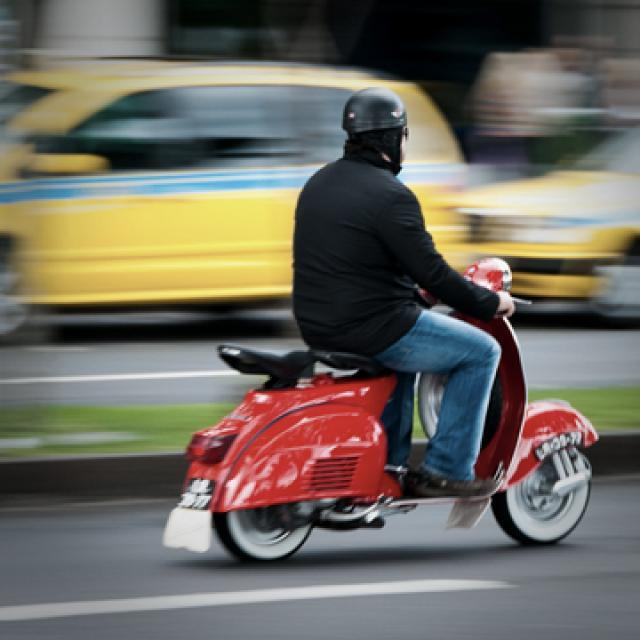Helmet: (327, 82, 421, 185)
